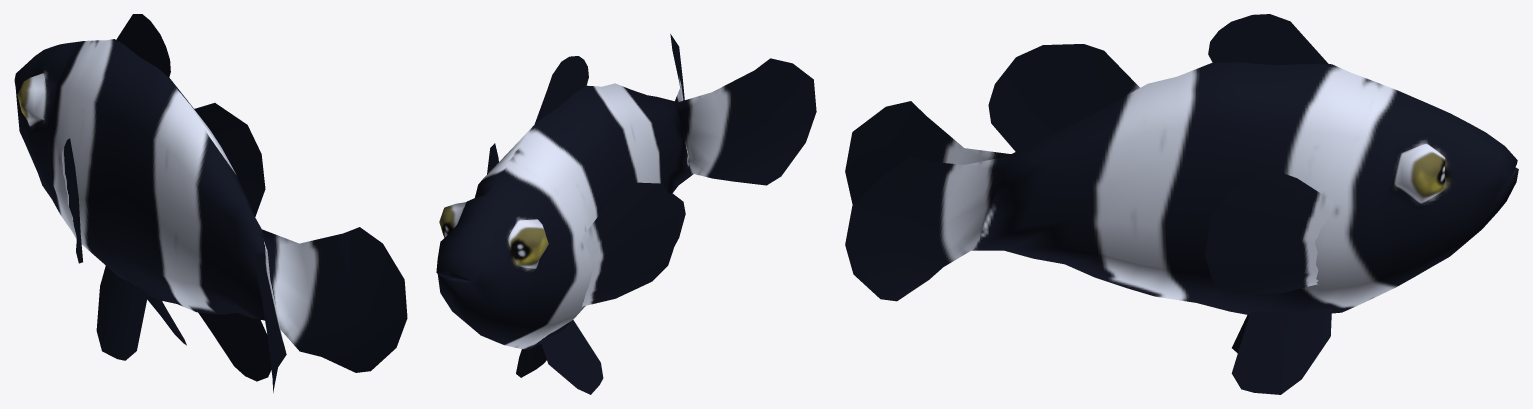
Rendered from ClownFIshBlack.fbx.
3 renders of one model, left to right at view 1: azimuth 30°, elevation 25°; view 2: azimuth 150°, elevation 25°; view 3: azimuth 270°, elevation 25°, orthographic. The views are drawn at different scales.
Visible parts, largest first — view 1: ClownFIshBlack_LOD00; view 2: ClownFIshBlack_LOD00; view 3: ClownFIshBlack_LOD00.
Part boxes in pixels (x1=…): ClownFIshBlack_LOD00: x1=14, y1=14, x2=407, y2=392; ClownFIshBlack_LOD00: x1=436, y1=34, x2=816, y2=394; ClownFIshBlack_LOD00: x1=845, y1=14, x2=1518, y2=394.
Size of what is drawn, in the model's own units: 30.21 by 51.92 by 87.7.
